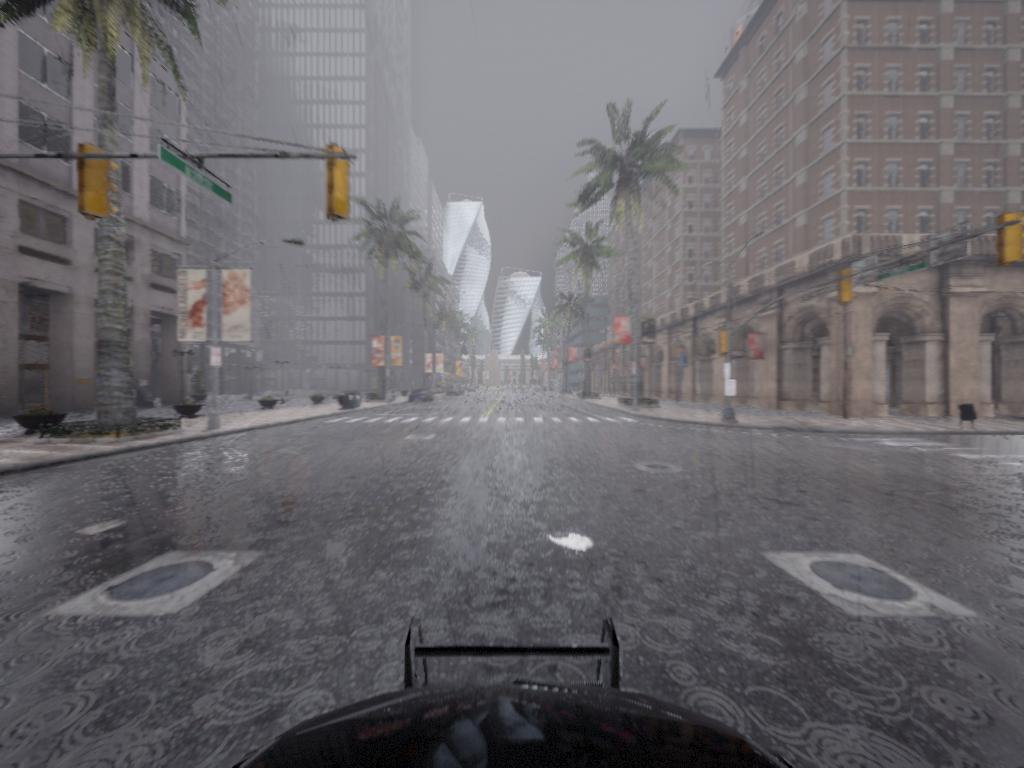traffic_light: (77, 148, 119, 221), (326, 153, 352, 220), (999, 212, 1024, 267), (836, 269, 855, 304), (718, 331, 732, 357)
